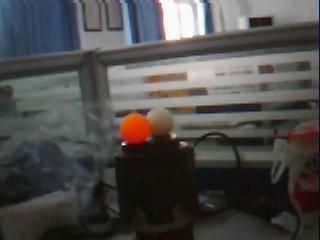oball: (120, 114, 149, 144)
